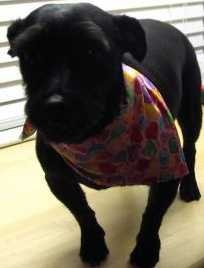Dog: (7, 4, 203, 256)
